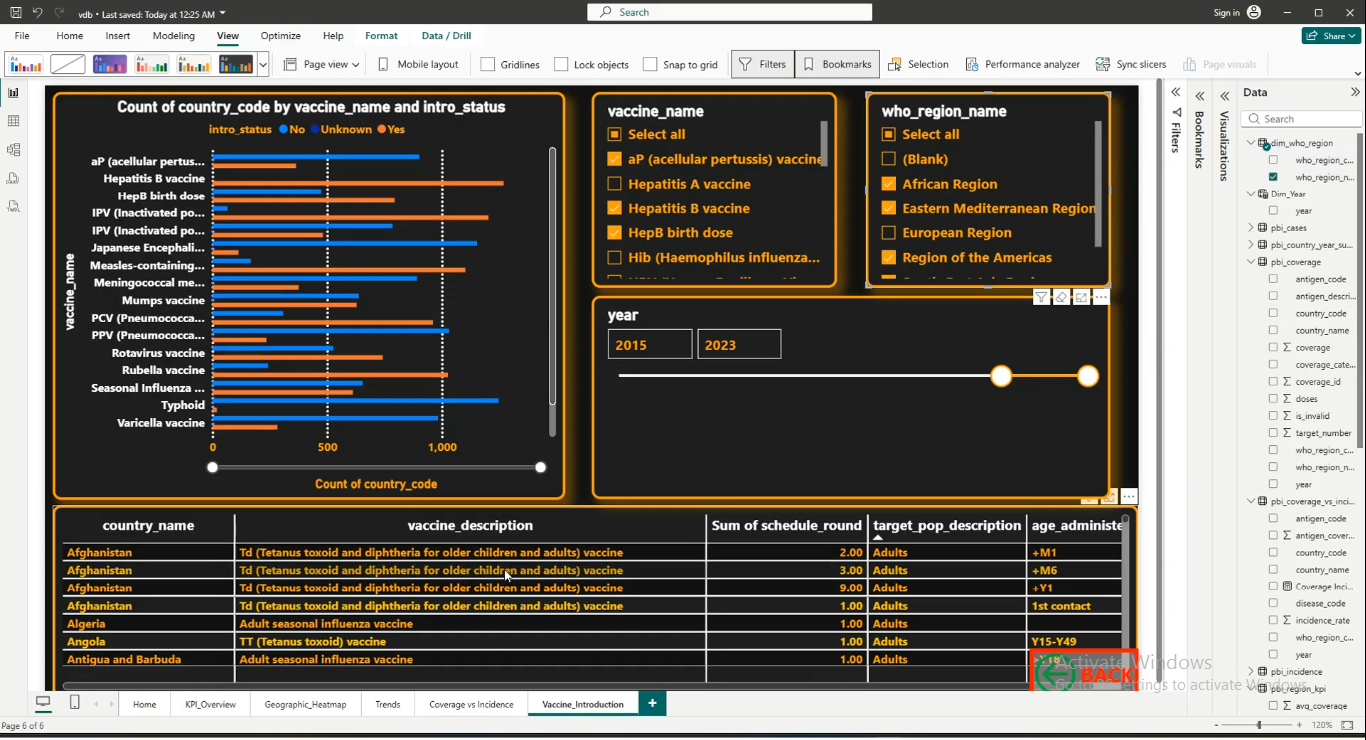

What the dashboard file says about the page in this screenshot:
{"tool":"powerbi","page":{"name":"Vaccine_Introduction","canvas":[1280,720],"ordinal":5},"visuals":[{"type":"clusteredBarChart","fields":{"Category":["pbi_vaccine_introduction.vaccine_name"],"Series":["pbi_vaccine_introduction.intro_status"],"Y":["CountNonNull(pbi_vaccine_introduction.country_code)"]},"box":[9.2,7.2,599.9,477.7],"z":0},{"type":"slicer","fields":{"Values":["dim_who_region.who_region_name"]},"box":[960.5,7.2,287,230.3],"z":1000},{"type":"tableEx","fields":{"Values":["pbi_vaccine_schedule.country_name","pbi_vaccine_schedule.vaccine_description","Sum(pbi_vaccine_schedule.schedule_round)","pbi_vaccine_schedule.target_pop_description","pbi_vaccine_schedule.age_administered"]},"box":[9.2,492.1,1270.8,228.1],"z":2000},{"type":"slicer","fields":{"Values":["pbi_vaccine_introduction.vaccine_name"]},"box":[640,7.2,286.6,230.1],"z":3000},{"type":"slicer","fields":{"Values":["Dim_Year.year"]},"box":[640,246.5,607.1,238.3],"z":4000},{"type":"actionButton","box":[1152.2,659.7,127.8,60],"z":5000}]}

Visuals, with their boxes on the page's 1280x720 design canvas (x1, y1, x2, y2). These are canvas units, not pixel positions in the 1366x740 screenshot, which may show the page scaled, cropped or inside an application window:
clusteredBarChart - pbi_vaccine_introduction.vaccine_name x pbi_vaccine_introduction.intro_status: box=[9, 7, 609, 485]
slicer - dim_who_region.who_region_name: box=[960, 7, 1248, 238]
tableEx - pbi_vaccine_schedule.country_name x pbi_vaccine_schedule.vaccine_description: box=[9, 492, 1280, 720]
slicer - pbi_vaccine_introduction.vaccine_name: box=[640, 7, 927, 237]
slicer - Dim_Year.year: box=[640, 246, 1247, 485]
actionButton: box=[1152, 660, 1280, 720]
